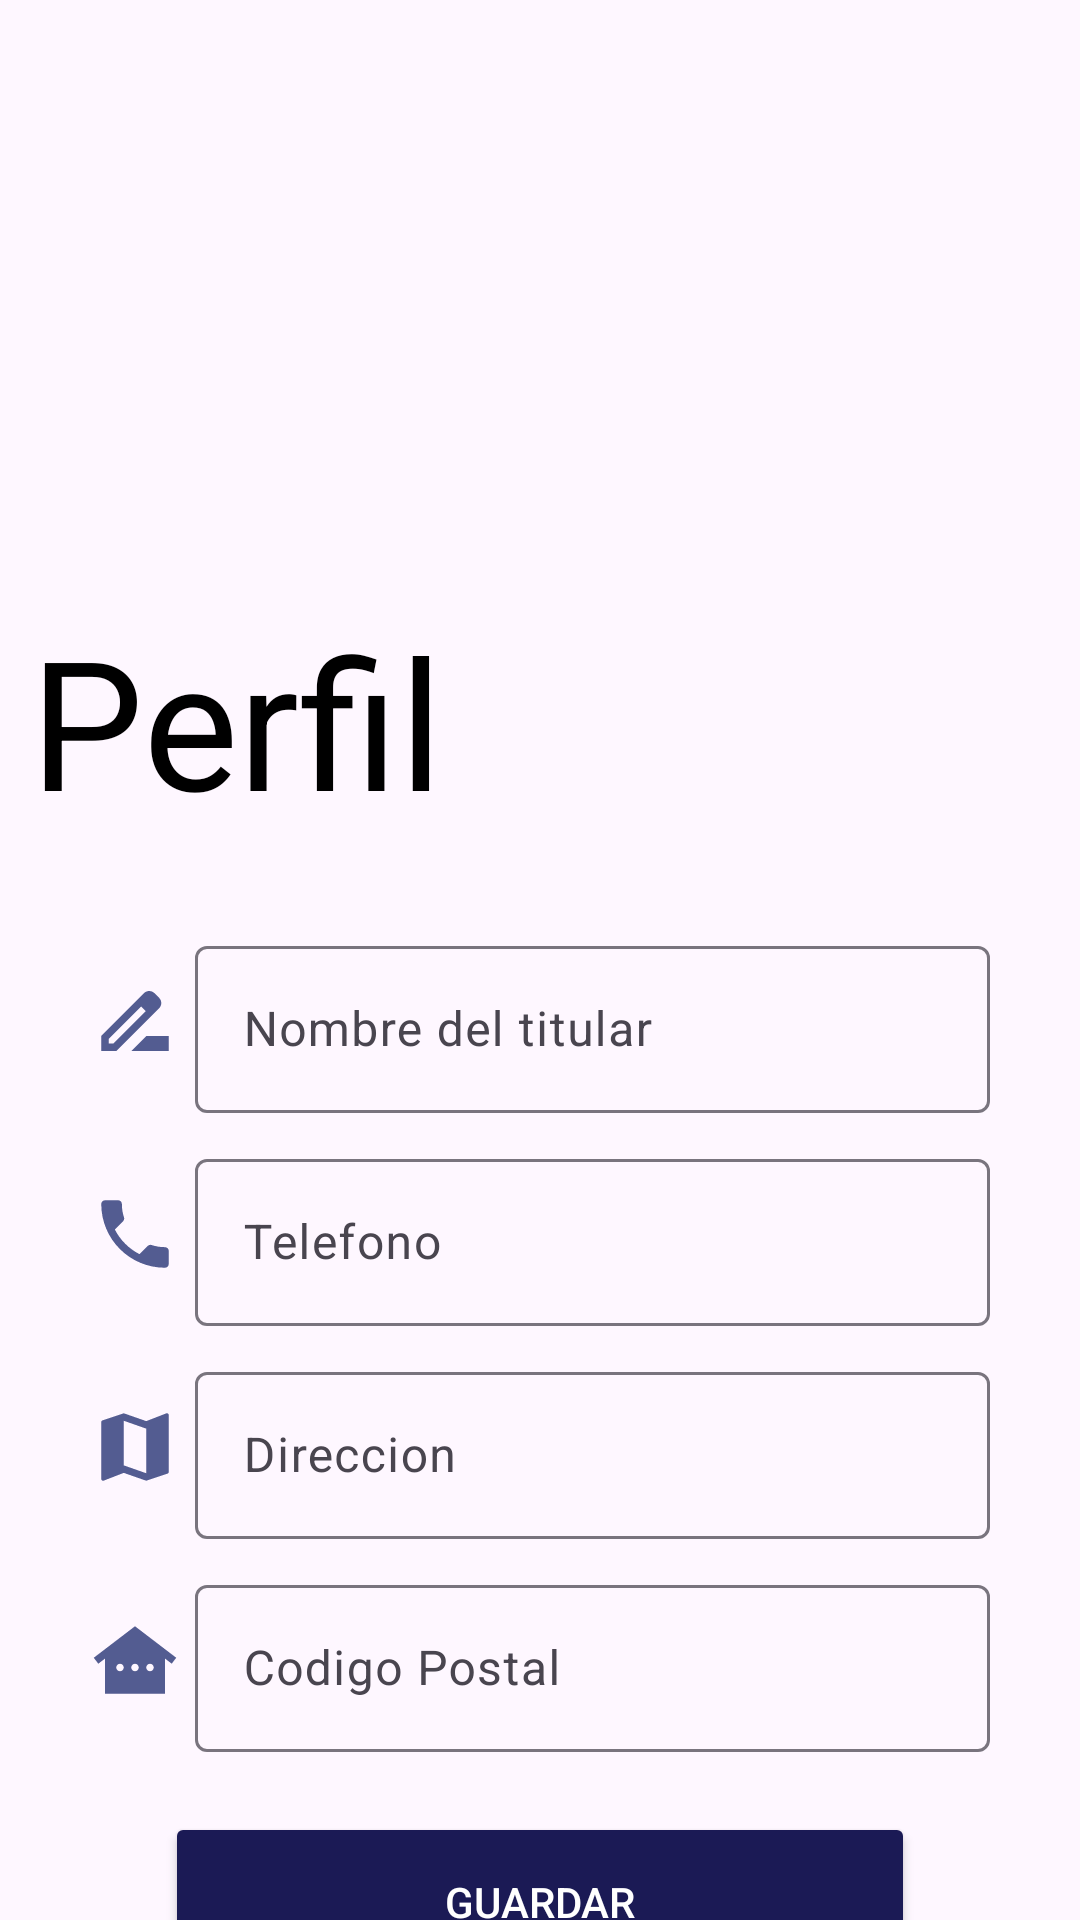

Icon click points for this 1080px x 1920px phone screenshot, format point (x, y):
direction: point (135, 1447)
phone: point (135, 1234)
